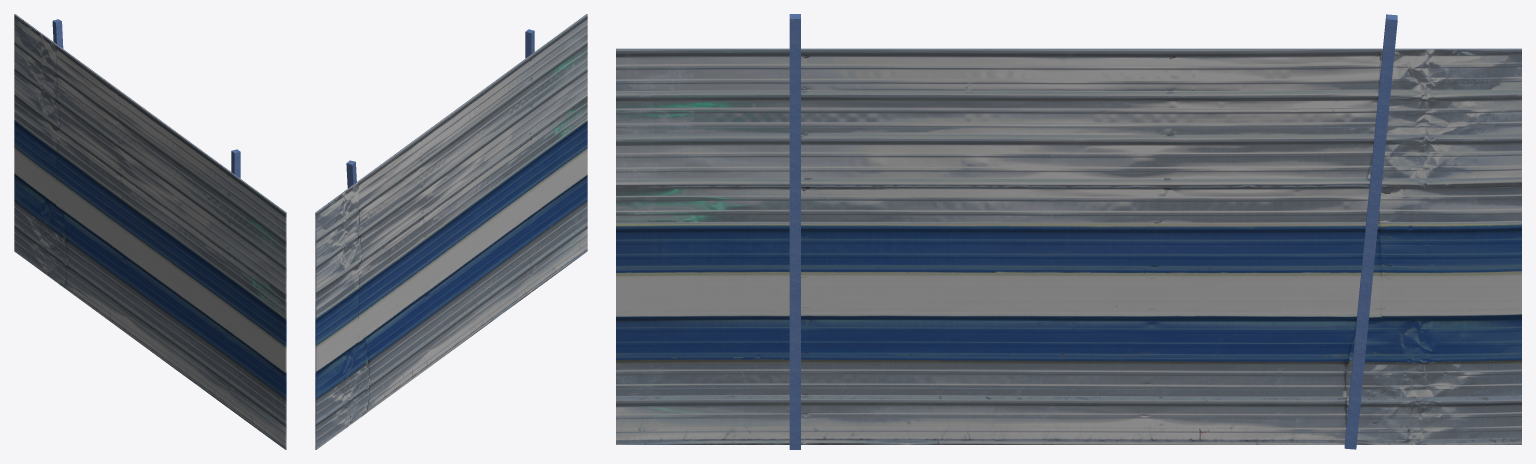
File: MetallFence04.FBX
3 renders of one model, left to right at view 1: azimuth 30°, elevation 25°; view 2: azimuth 150°, elevation 25°; view 3: azimuth 270°, elevation 25°, orthographic. The views are drawn at different scales.
Visible parts, largest first — view 1: MetallFence04, MetalFenceMetal01c; view 2: MetallFence04, MetalFenceMetal01c; view 3: MetallFence04, MetalFenceMetal01c.
Boxes of the visible parts, x1,y1,x2,y2 form: MetallFence04: (14,14,286,449); MetalFenceMetal01c: (52,19,240,178); MetallFence04: (315,14,587,449); MetalFenceMetal01c: (346,29,534,188); MetallFence04: (616,48,1521,444); MetalFenceMetal01c: (789,14,1397,449).
Size of the model in its own units: 6.43 by 220 by 419.
